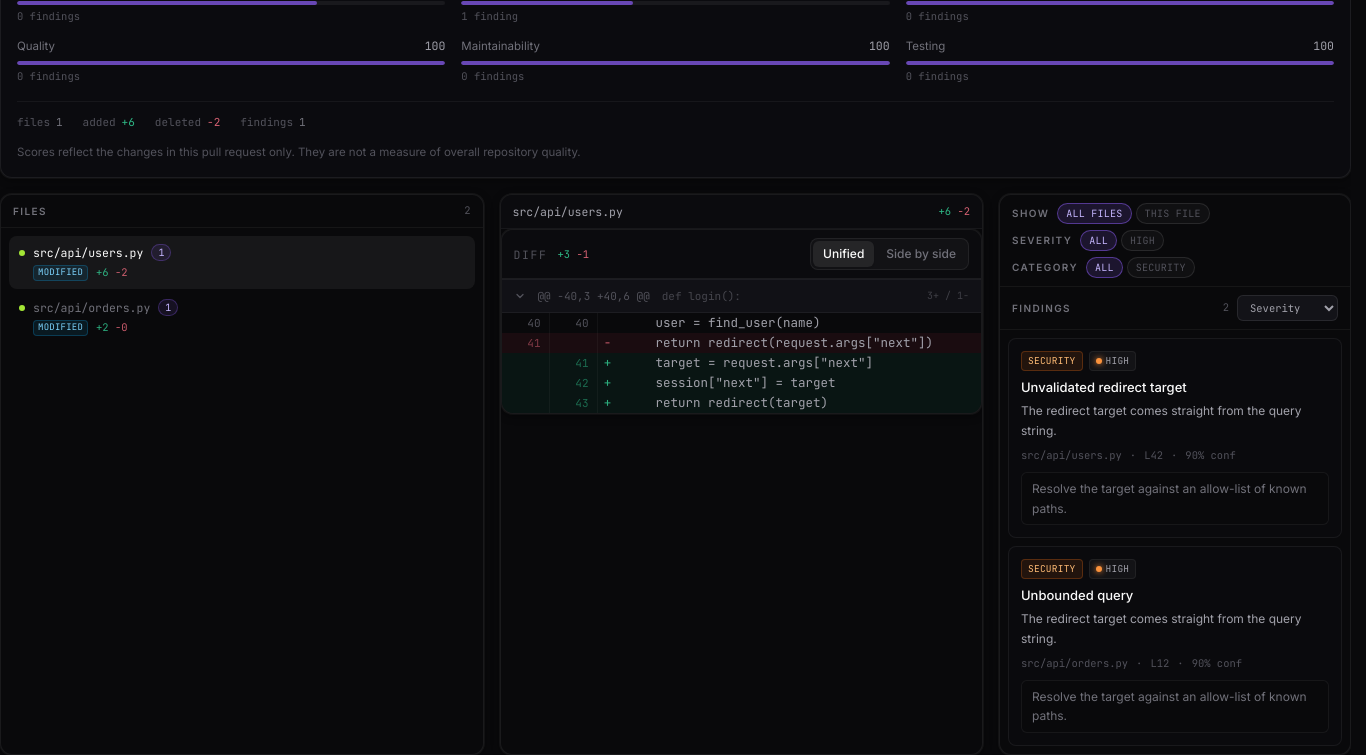
Scenario: AiReviewWorkspace › navigates to the file and line a finding belongs to
This screenshot has width=1366, height=755.
(page scrolled)
Expected: the text "Unbounded query" is shown, [1021,587,1133,603]
Click the button "Unbounded query" at coordinates (1052, 569), box [1008,546,1342,746]
(page scrolled)
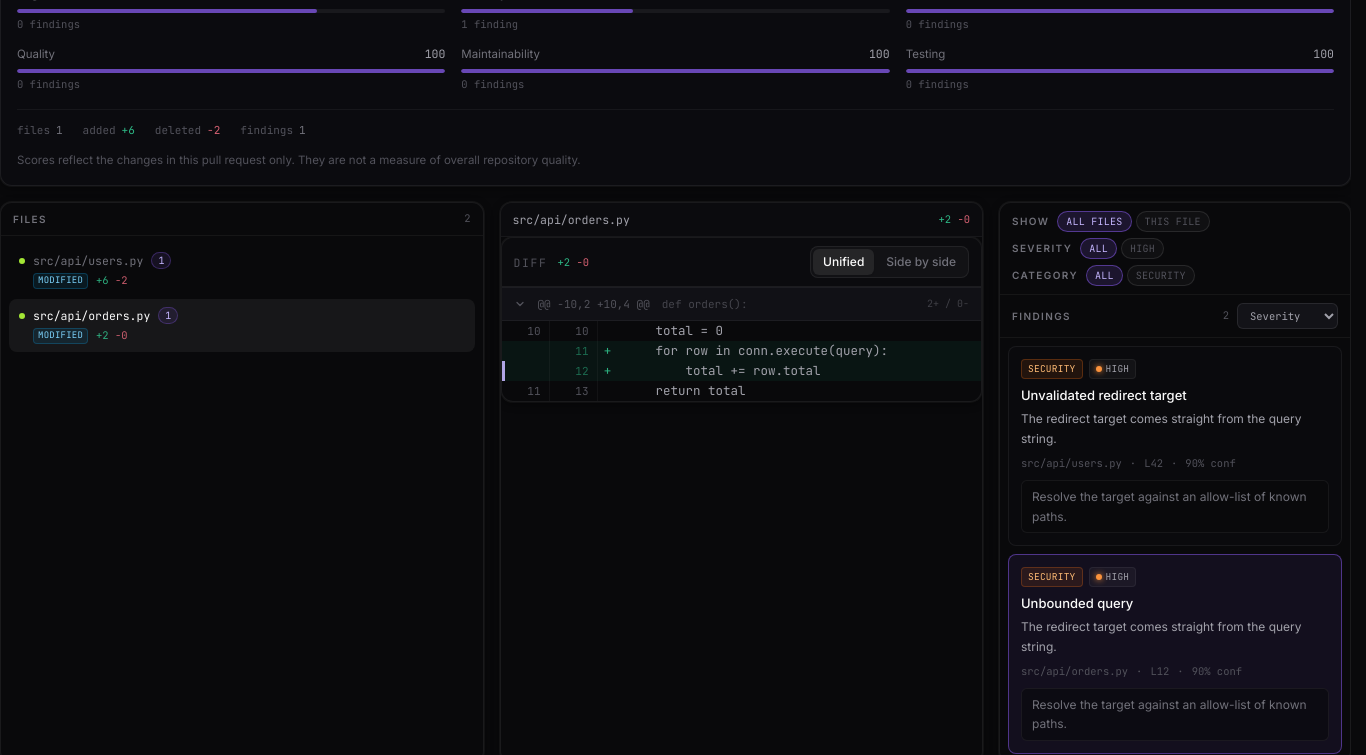
Now the 1st text "src/api/orders.py" is shown, box [512,211,630,228]
